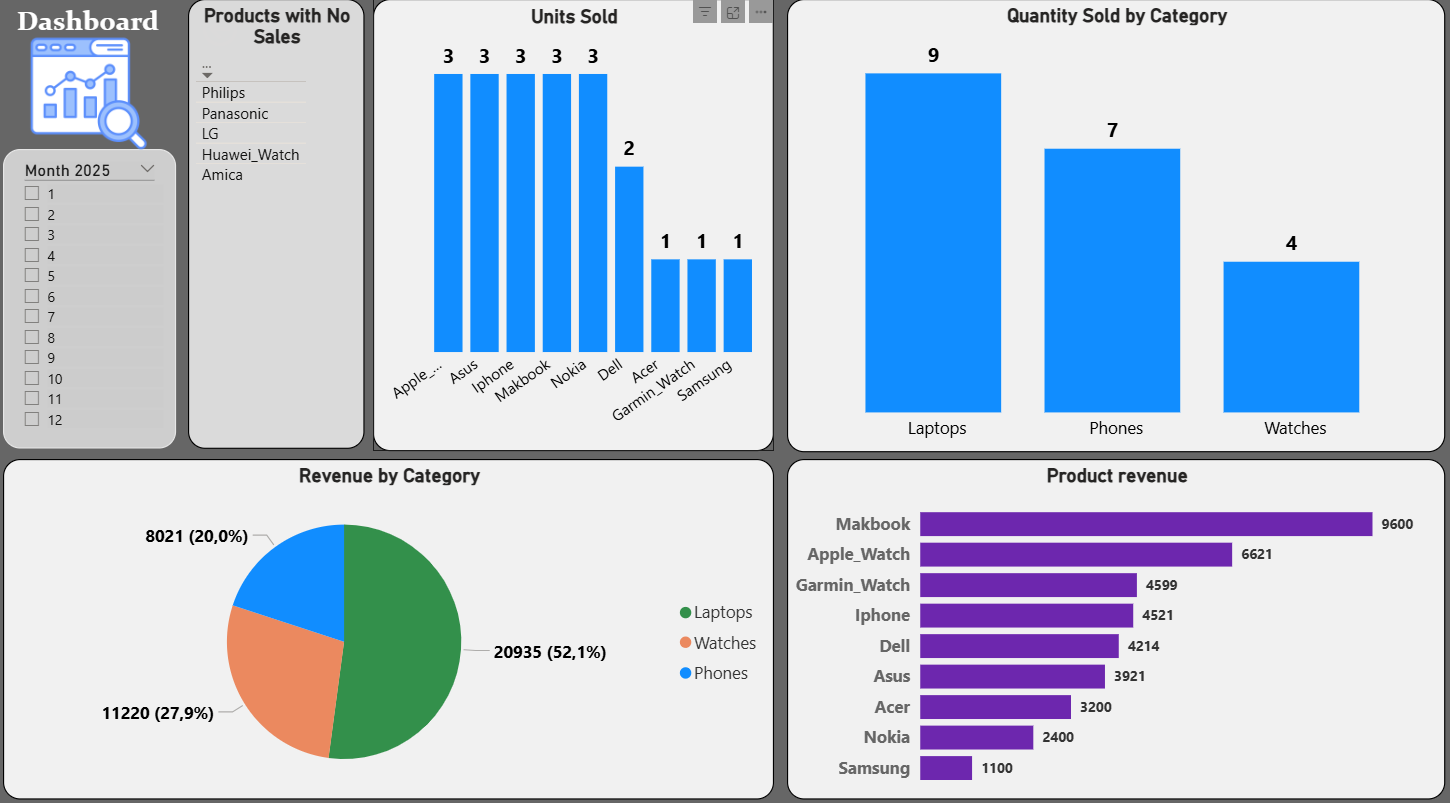

What the dashboard file says about the page in this screenshot:
{"tool":"powerbi","page":{"name":"Страница 1","canvas":[1280,720],"ordinal":0},"visuals":[{"type":"actionButton","box":[177.4,13.2,100.1,40.4],"z":0},{"type":"columnChart","title":"Quantity Sold by Category","fields":{"Category":["Категорії товарів.name"],"Y":["Dax.К-во"]},"box":[695,7,578,398],"z":1000},{"type":"barChart","title":"Product revenue","fields":{"Category":["Shop.title"],"Y":["Dax.Сума продаж"]},"box":[695,411,578,299],"z":2000},{"type":"pieChart","title":"Revenue by Category","fields":{"Category":["categories.name"],"Y":["Dax.Сума продаж"]},"box":[7,411,677,299],"z":3000},{"type":"tableEx","title":"Products with No Sales","fields":{"Values":["Shop.title"]},"box":[169.1,7.3,154.5,394.5],"z":4000},{"type":"slicer","fields":{"Values":["Calendar.MonthNum"]},"box":[7.3,139.1,151.8,262.7],"z":5000},{"type":"textbox","box":[7.3,0,170.9,49.1],"z":6000},{"type":"columnChart","title":"Units Sold","fields":{"Category":["Shop.title"],"Y":["Dax.К-во"]},"box":[332,7,352,397],"z":7000},{"type":"image","box":[23.6,32.7,117.3,115.5],"z":8000}]}

Visuals, with their boxes in screenshot pixels (x1, y1, x2, y2), scaled from the page's 1280x720 canvas onto the 1451x804 screenshot:
actionButton: bbox=[201, 15, 315, 60]
"Quantity Sold by Category" columnChart: bbox=[788, 8, 1443, 452]
"Product revenue" barChart: bbox=[788, 459, 1443, 793]
"Revenue by Category" pieChart: bbox=[8, 459, 775, 793]
"Products with No Sales" tableEx: bbox=[192, 8, 367, 449]
slicer - Calendar.MonthNum: bbox=[8, 155, 180, 449]
textbox: bbox=[8, 0, 202, 55]
"Units Sold" columnChart: bbox=[376, 8, 775, 451]
image: bbox=[27, 37, 160, 165]
